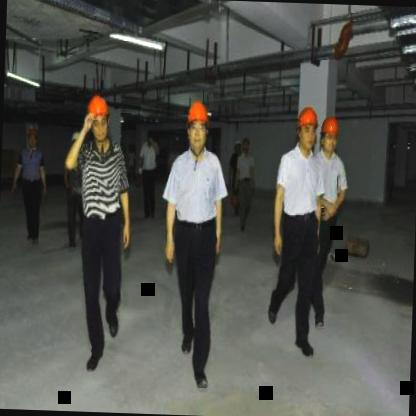helmet: (183, 98, 211, 152), (294, 103, 322, 152), (84, 92, 110, 143), (321, 114, 343, 156), (26, 126, 40, 150)
